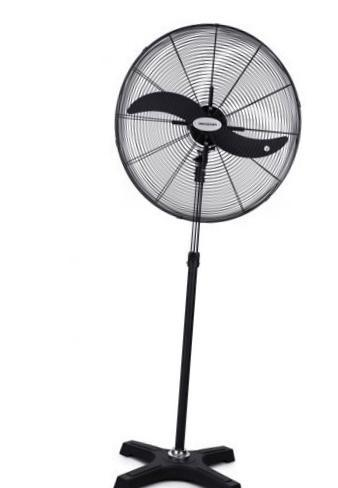fan: (56, 10, 319, 488)
